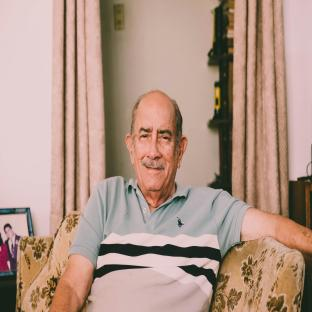Human: (50, 91, 312, 312)
